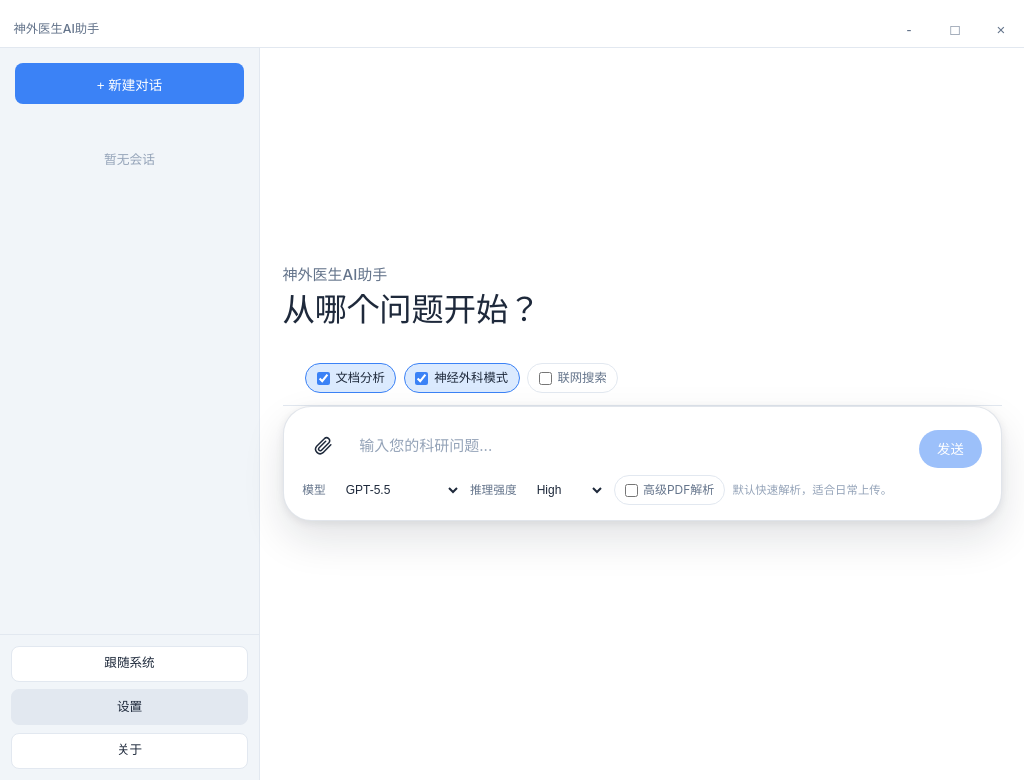
App settings controls › queues multiple selected documents and shows per-file parse status
Click the button named "上传文档" at (323, 447), box [302, 426, 344, 468]
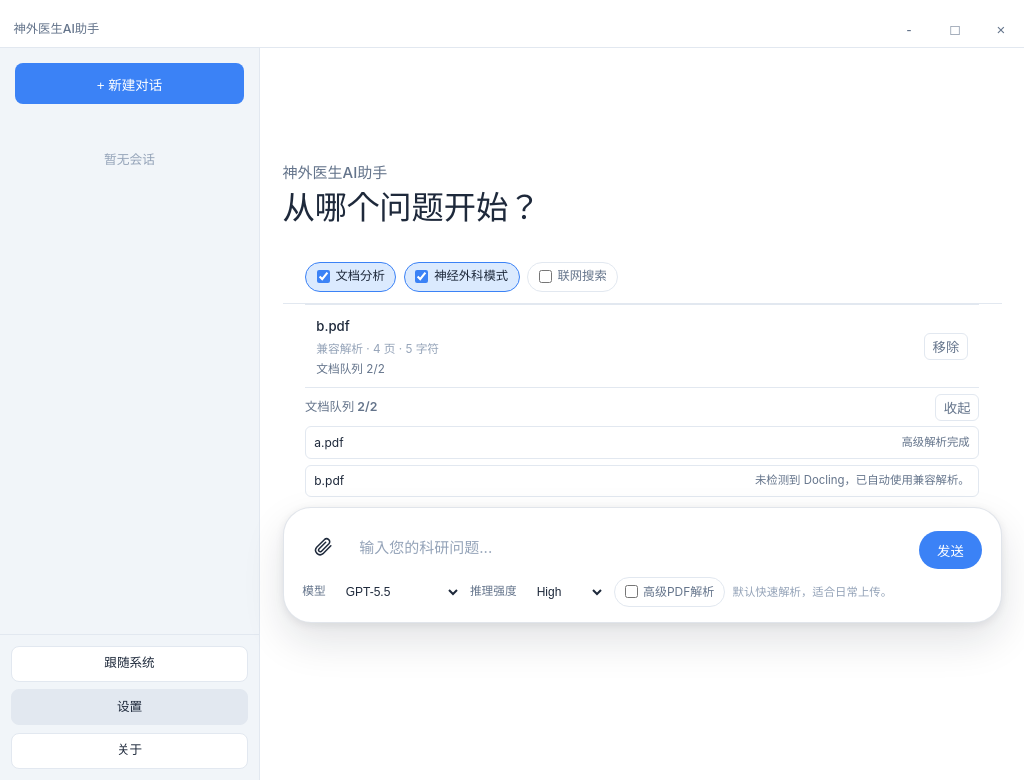
Result: the text "文档队列 2/2" below "兼容解析 ·" is shown at [316, 362, 385, 376]
Result: the text "a.pdf" is shown at [314, 435, 344, 450]
Result: the 1st text "b.pdf" is shown at [316, 318, 350, 334]
